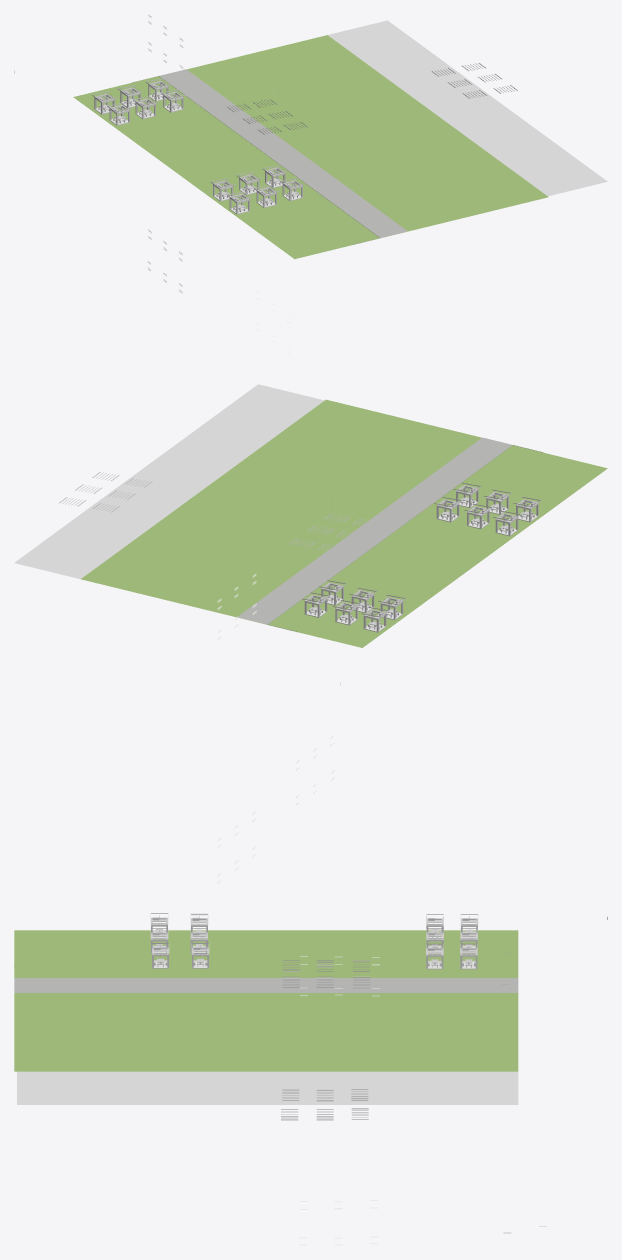
The model's file is KIOSK_NO_STAGE.glb.
The picture shows the model from 3 angles, top to bottom: view 1: azimuth 30°, elevation 25°; view 2: azimuth 150°, elevation 25°; view 3: azimuth 270°, elevation 25°; orthographic projection. The views are drawn at different scales.
Parts seen in each view (by area): view 1: Node3495, Node3501, Node3493, Node3504; view 2: Node3495, Node3501, Node3493, Node3504; view 3: Node3495, Node3501, Node3493, Node3504.
Boxes of the visible parts, left/top/right/bottom form: Node3495: left=187, top=35, right=548, bottom=238; Node3501: left=73, top=76, right=379, bottom=259; Node3493: left=328, top=20, right=607, bottom=196; Node3504: left=159, top=69, right=407, bottom=237; Node3495: left=81, top=399, right=481, bottom=624; Node3501: left=268, top=445, right=607, bottom=647; Node3493: left=14, top=384, right=324, bottom=579; Node3504: left=237, top=437, right=512, bottom=624; Node3495: left=14, top=993, right=518, bottom=1071; Node3501: left=14, top=930, right=518, bottom=977; Node3493: left=17, top=1071, right=518, bottom=1104; Node3504: left=14, top=978, right=518, bottom=992.
Size of the model in its own units: 3175 by 2150 by 3983.
